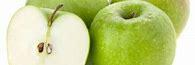apple: (89, 4, 177, 65), (6, 3, 91, 65)
